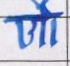au_matra: (30, 0, 54, 46)
